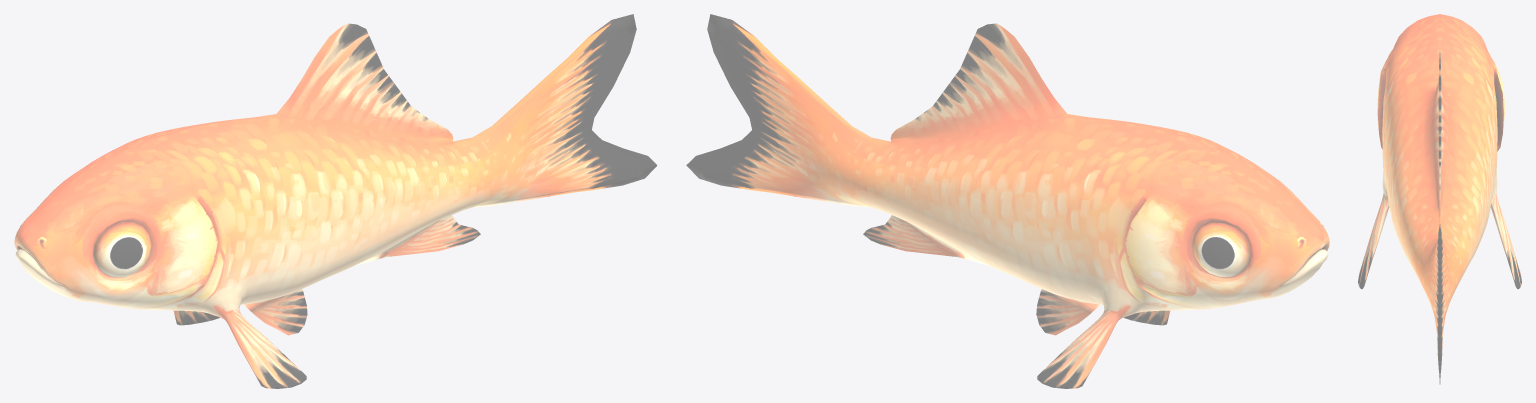
File: Goldfish.glb
The picture shows the model from 3 angles, left to right: view 1: azimuth 30°, elevation 25°; view 2: azimuth 150°, elevation 25°; view 3: azimuth 270°, elevation 25°; orthographic projection. The views are drawn at different scales.
Visible parts, largest first — view 1: p_GoldFish; view 2: p_GoldFish; view 3: p_GoldFish.
Boxes of the visible parts, x1,y1,x2,y2 form: p_GoldFish: (14,14,657,388); p_GoldFish: (686,14,1329,388); p_GoldFish: (1358,14,1521,384).
Size of the model in its own units: 0.1199 by 0.0552 by 0.0293.
Materials: 1 (1 with a texture image).
